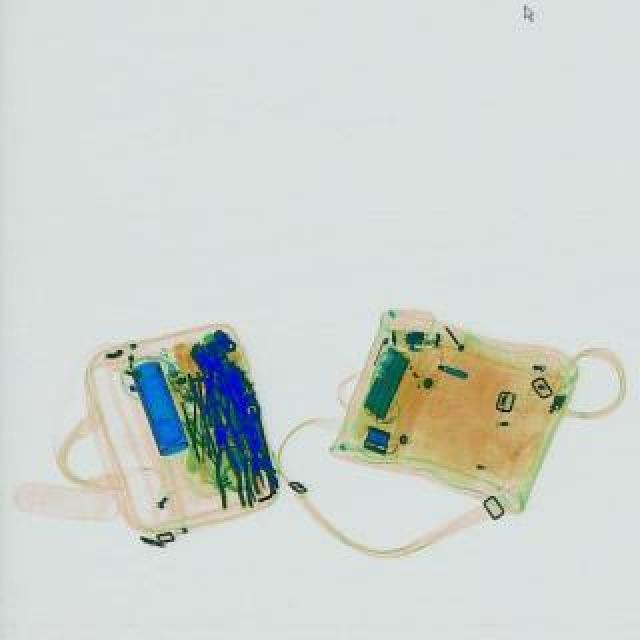wrench: (202, 400, 246, 508), (182, 366, 212, 414)
